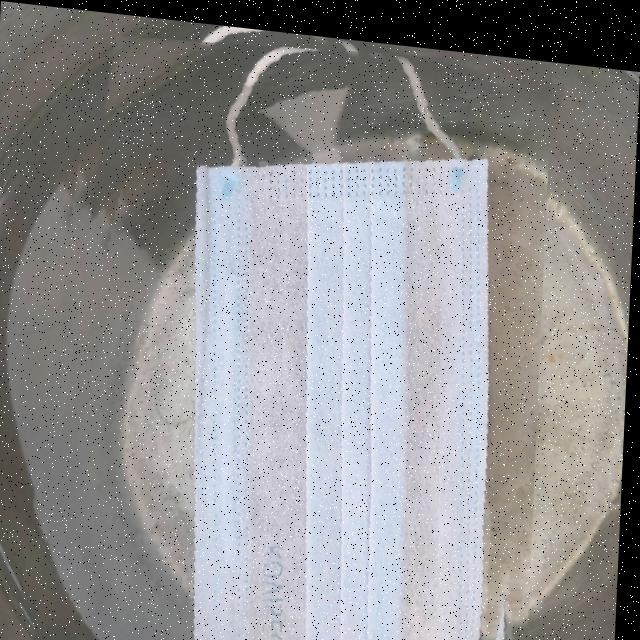mask: (36, 5, 552, 640)
